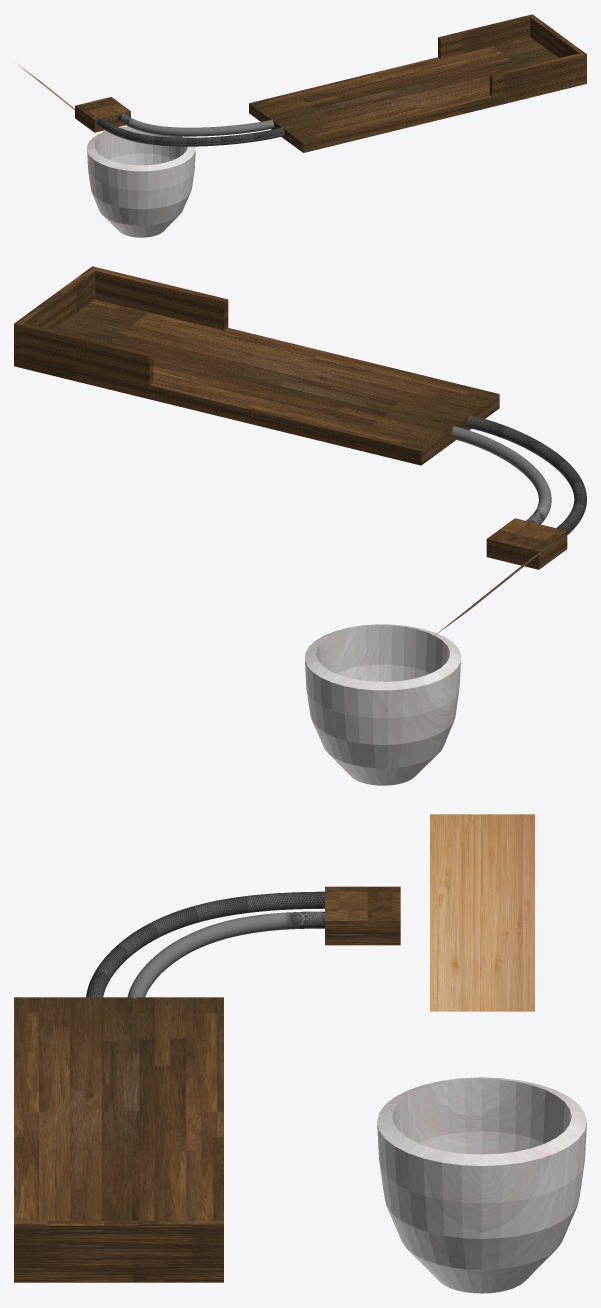
File: parcour.obj
3 renders of one model, top to bottom at view 1: azimuth 30°, elevation 25°; view 2: azimuth 150°, elevation 25°; view 3: azimuth 270°, elevation 25°, orthographic. The views are drawn at different scales.
Visible parts, largest first — view 1: Cube, Cylinder, NurbsPath_Mesh.003; view 2: Cube, Cylinder, NurbsPath_Mesh.003; view 3: Cube, Cylinder, Plane, NurbsPath_Mesh.003.
Boxes of the visible parts, x1,y1,x2,y2 form: Cube: (75, 14, 586, 152); Cylinder: (87, 126, 195, 237); NurbsPath_Mesh.003: (97, 113, 284, 146); Cube: (14, 266, 567, 569); Cylinder: (305, 624, 461, 785); NurbsPath_Mesh.003: (451, 415, 586, 534); Cube: (14, 886, 400, 1282); Cylinder: (377, 1077, 586, 1293); Plane: (430, 814, 534, 1011); NurbsPath_Mesh.003: (86, 891, 328, 998).
Bounding box in the file's own units: 9.26 × 3.71 × 5.46.
